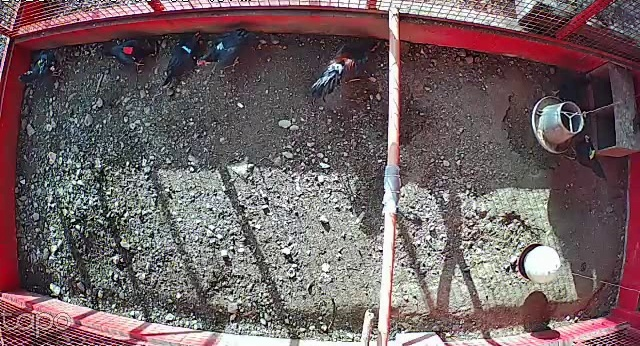Chicken: (194, 22, 261, 76), (557, 130, 612, 184), (158, 29, 205, 90), (15, 47, 74, 87), (103, 32, 163, 70)
Rooster: (312, 36, 390, 103)
Saddle_Color_Blue: (182, 45, 192, 55)
Saddle_Color_Red: (123, 45, 135, 55)
Saddle_Color_White: (217, 43, 221, 50)
Saddle_Color_Yellow: (37, 60, 43, 69)
Saddle_Color_YellowGreen: (586, 148, 597, 160)
